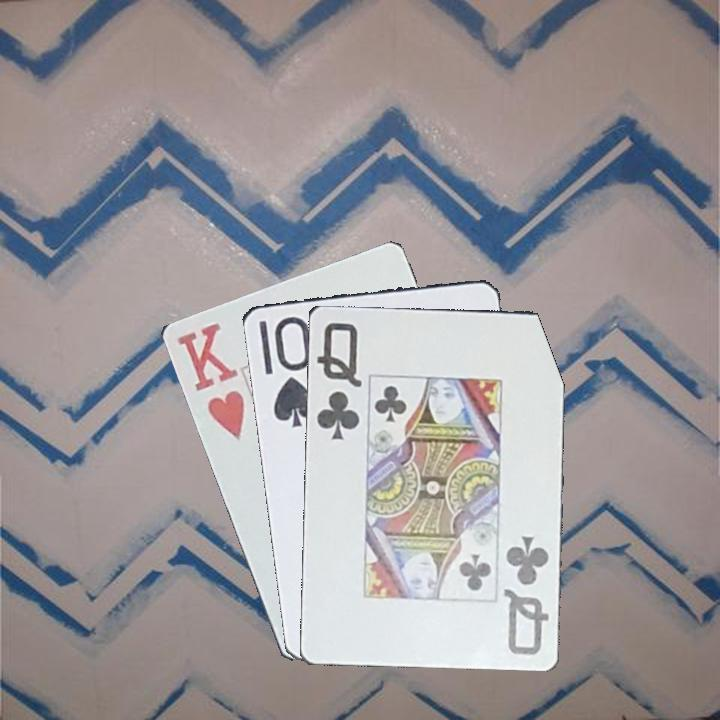Kh: (173, 318, 247, 444)
Qc: (500, 531, 552, 658), (312, 318, 365, 442)
Ts: (254, 312, 318, 430)
